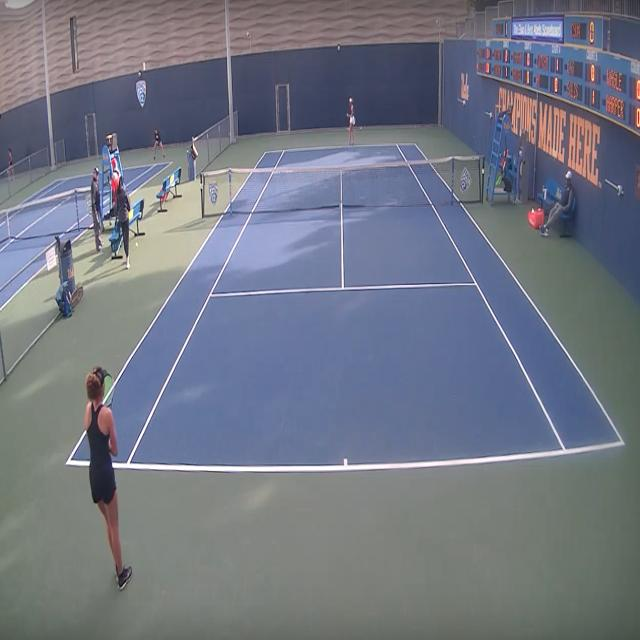ball: (135, 242, 139, 248), (360, 125, 362, 132), (346, 113, 348, 117)
